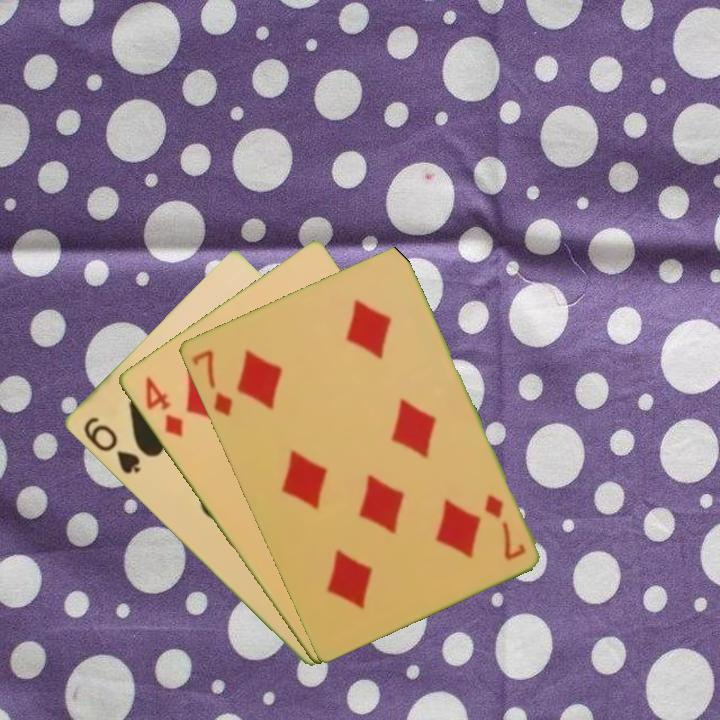4d: (141, 372, 186, 440)
6s: (79, 413, 143, 477)
7d: (479, 490, 529, 563), (188, 346, 235, 419)
